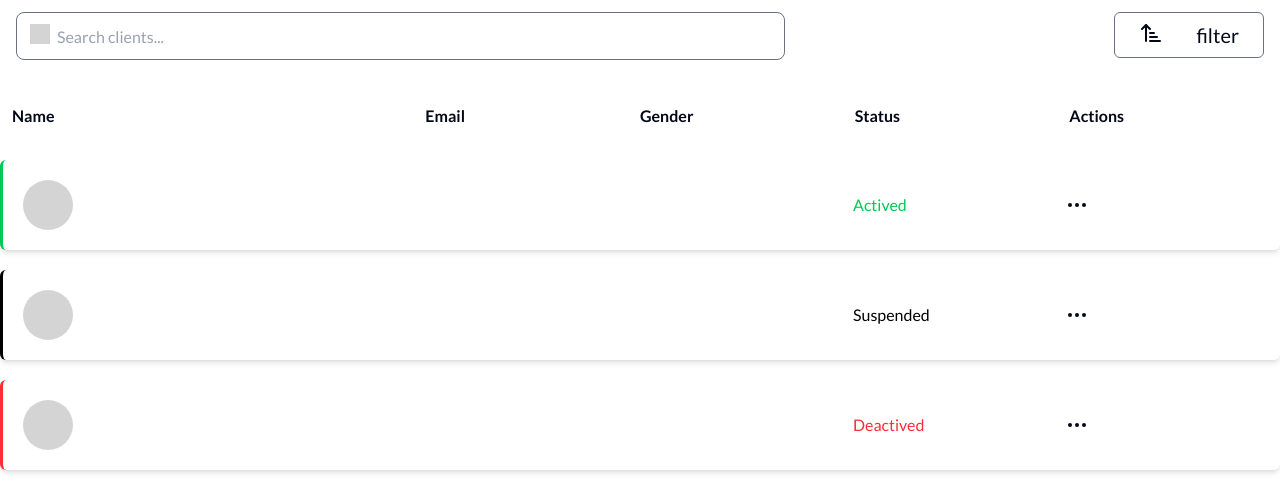
Test: Clients › sort/filter › hides sort options after selecting an option
Click the text "filter" at point(1218, 35), box [1196,21,1239,49]
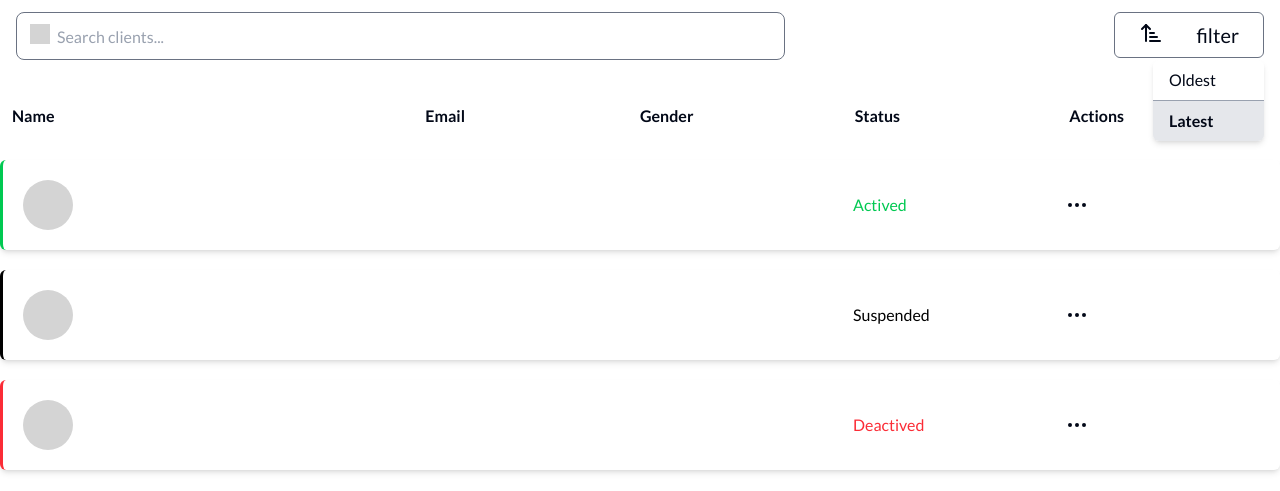
Click the text "oldest" at point(1208, 80), box [1153,60,1264,101]
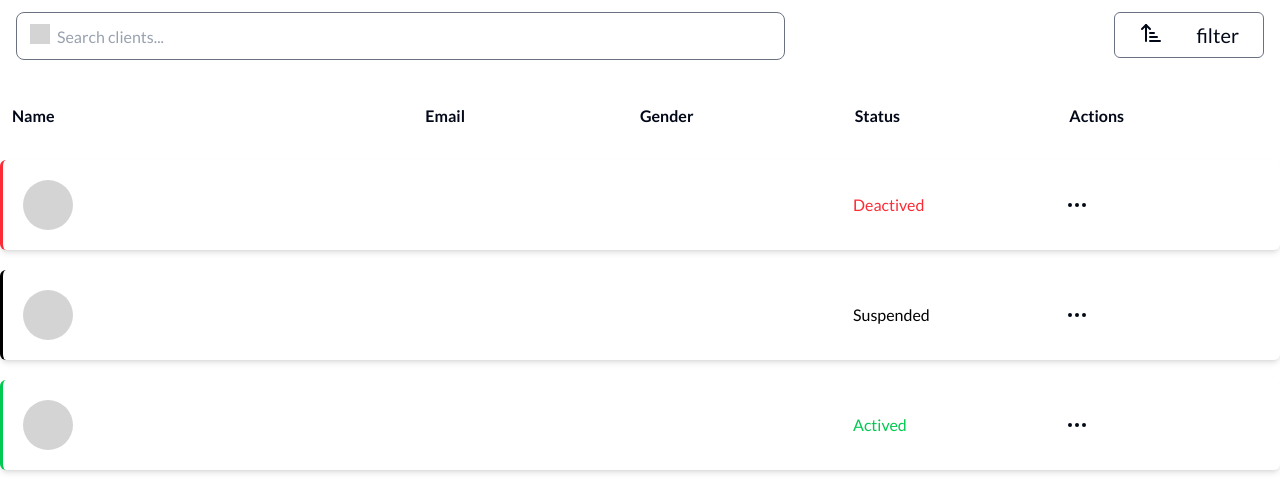
Expected: the text "oldest" is gone
